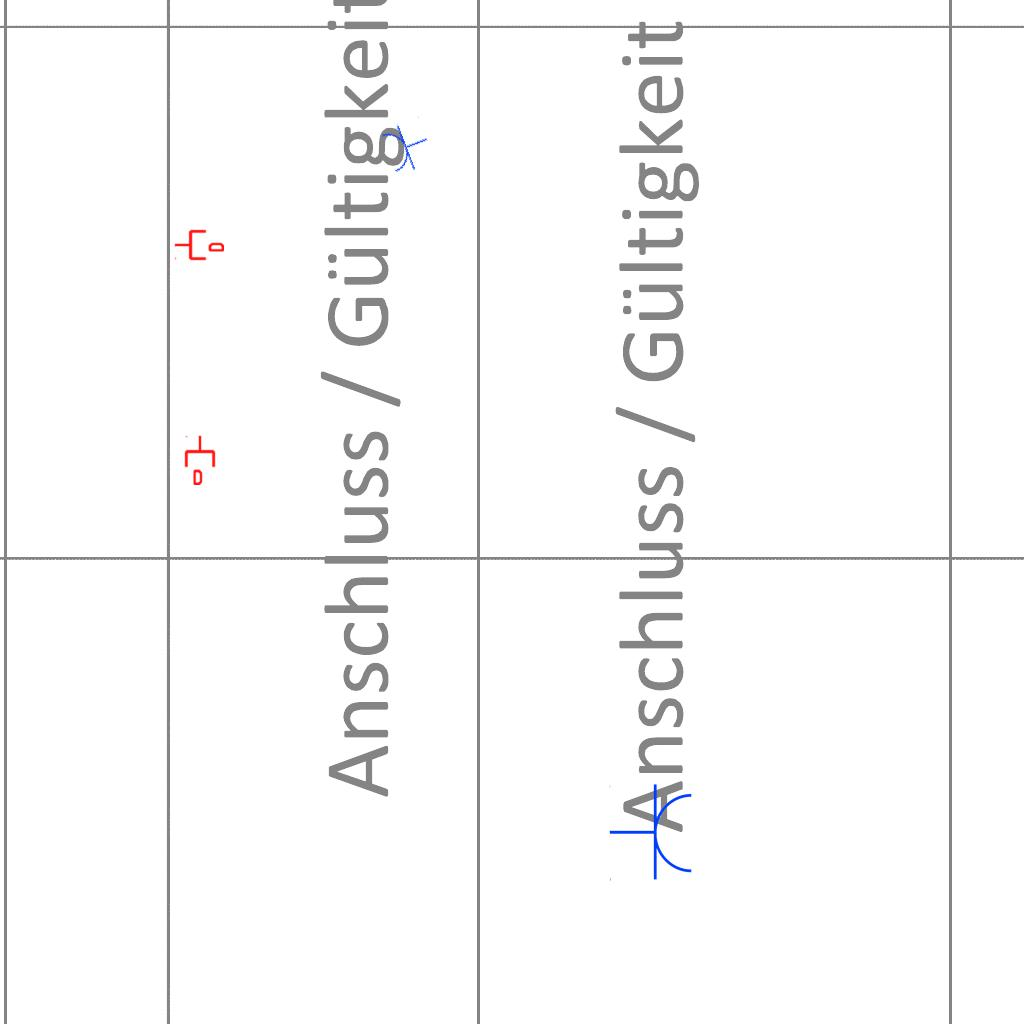Datenanschluss_einfach: (183, 435, 217, 485), (174, 228, 224, 262)
Schukosteckdose_einfach: (609, 783, 696, 883), (377, 115, 437, 178)
